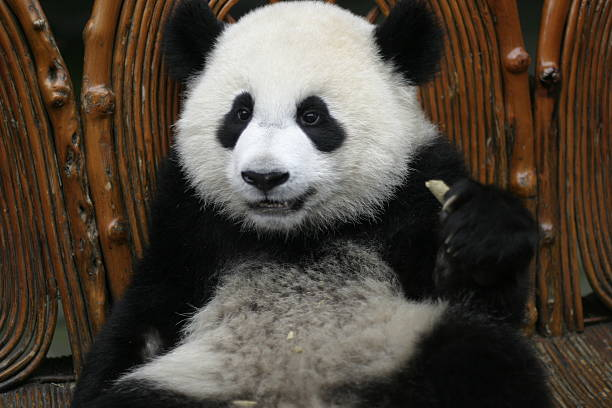panda: (157, 4, 466, 259)
